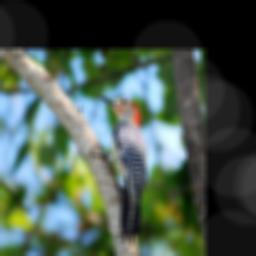Woodpecker: (90, 95, 147, 245)
